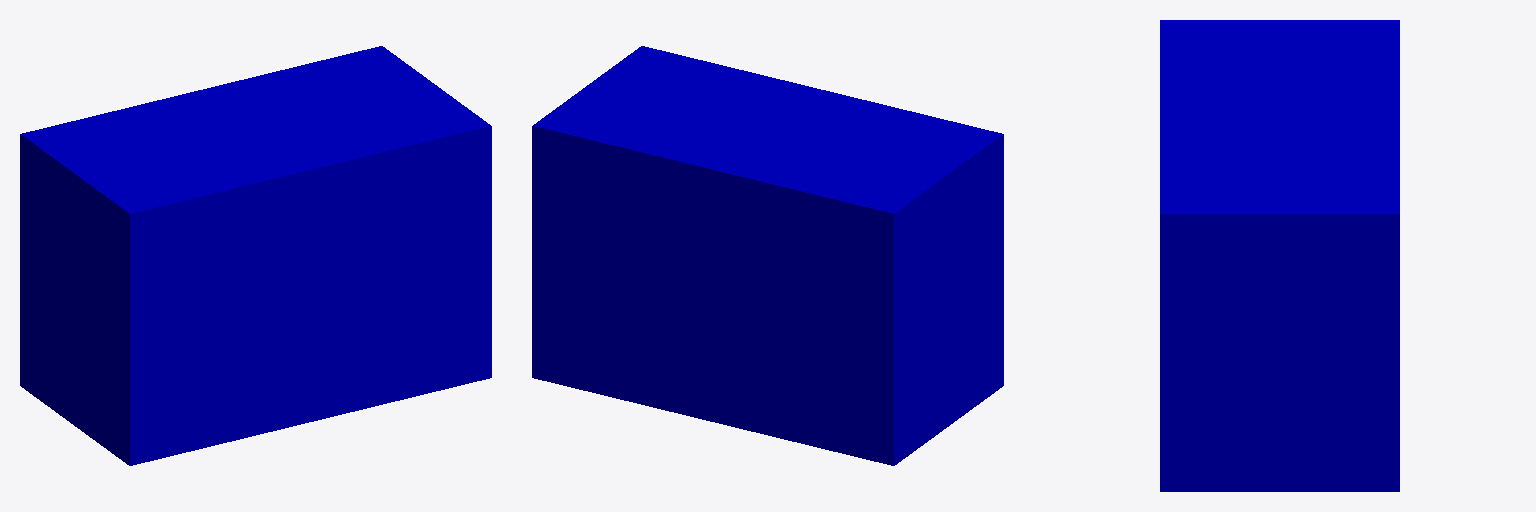
robot.urdf — simple_box:
<?xml version="1.0"?>
<robot name="simple_box">
  <link name="baseLink">
    <inertial>
      <origin xyz="1.05 0.55 0.7"/>
      <mass value="1" />
      <inertia  ixx="0.0001" ixy="0.0"  ixz="0.0"  iyy="0.0001"  iyz="0.0"  izz="0.0001" />
    </inertial>
    <visual>
      <origin xyz="1.05 0.55 0.7"/>
      <material name = 'blue'>
        <color rgba="0 0 0.8 1"/>
      </material>
      <geometry>
        <box size="2.1 1.1 1.4"/>
      </geometry>
    </visual>
    <collision>
      <origin xyz="1.05 0.55 0.7"/>
      <geometry>
        <box size="2.1 1.1 1.4"/>
      </geometry>
    </collision>
  </link>
  <gazebo reference="baseLink">
    <material>Gazebo/red</material>
  </gazebo>
</robot>

--- What the picture shows (computed from the rendered views, not written in the file) ---
The picture shows the robot from 3 angles, left to right: view 1: azimuth 30°, elevation 25°; view 2: azimuth 150°, elevation 25°; view 3: azimuth 270°, elevation 25°; orthographic projection.
Model simple_box with 1 links and 0 joints (none), rooted at baseLink, posed all joints at 0.
Visible links, largest first — view 1: baseLink; view 2: baseLink; view 3: baseLink.
Boxes of the visible links, left/top/right/bottom form: baseLink: left=20, top=46, right=491, bottom=465; baseLink: left=532, top=46, right=1003, bottom=465; baseLink: left=1160, top=20, right=1399, bottom=491.
Bounding box of the posed robot: 2.1 × 1.1 × 1.4 m (x, y, z).
Geometry: primitives only (box / cylinder / sphere), no mesh files.
